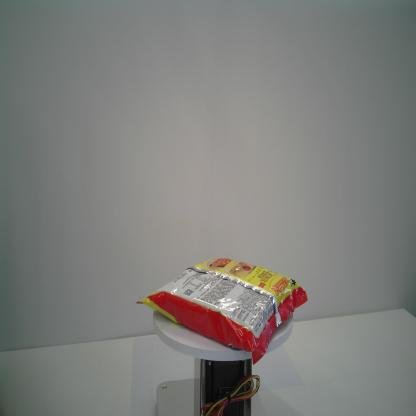Instant Noodles: (135, 255, 309, 368)
